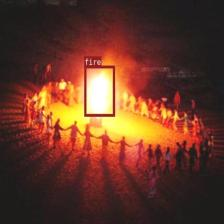fire: (84, 66, 114, 116)
